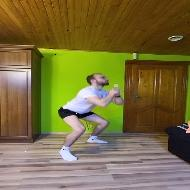squats: (51, 69, 132, 166)
